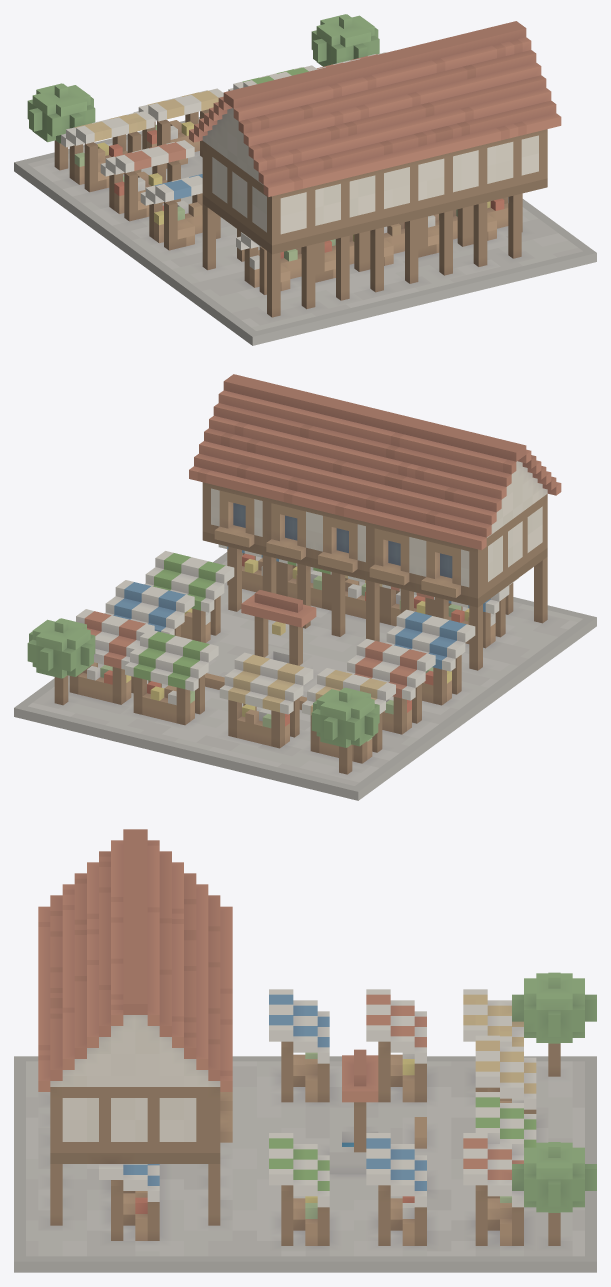
Rendered from market_small.l2.glb.
3 renders of one model, top to bottom at view 1: azimuth 30°, elevation 25°; view 2: azimuth 150°, elevation 25°; view 3: azimuth 270°, elevation 25°, orthographic. The views are drawn at different scales.
Parts seen in each view (by area): view 1: market_small; view 2: market_small; view 3: market_small.
Boxes of the visible parts, bbox=[...] form: market_small: bbox=[14, 14, 596, 345]; market_small: bbox=[14, 374, 596, 800]; market_small: bbox=[14, 829, 596, 1272].
Bounding box in the file's own units: 5 × 2.88 × 6.
